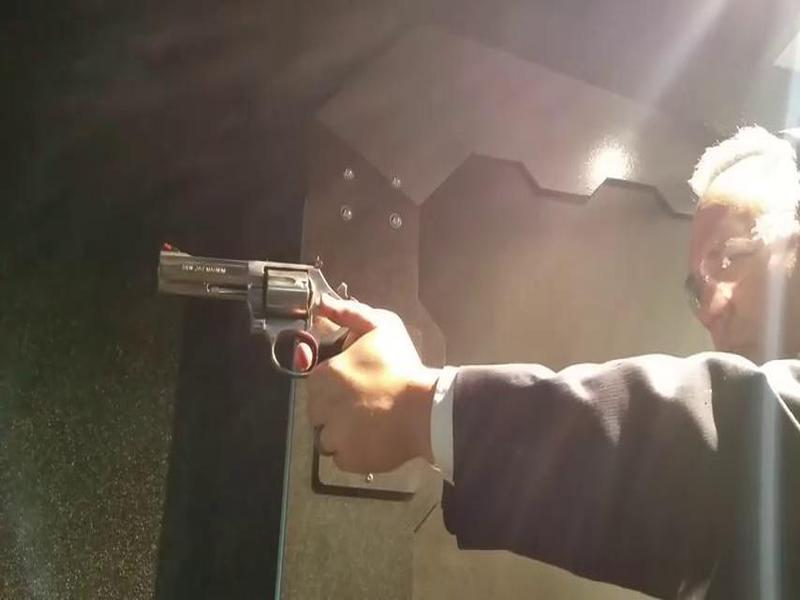Revolver: (150, 230, 362, 395)
